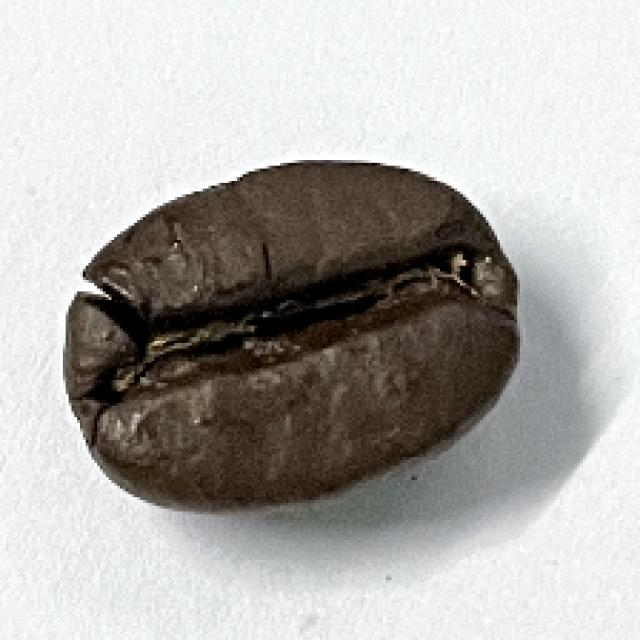bean: (51, 157, 524, 514)
